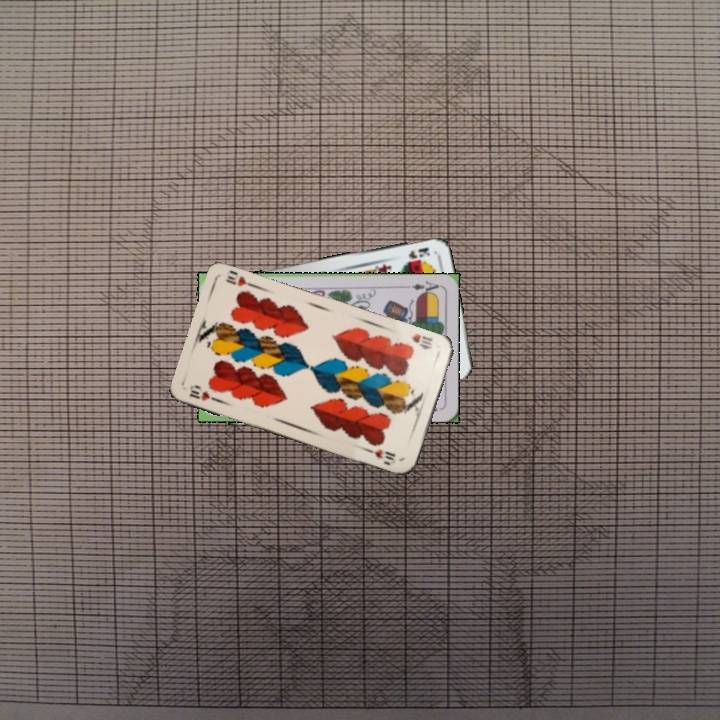EA: (402, 277, 442, 296)
H10: (186, 382, 223, 405), (407, 330, 435, 353)
SK: (404, 243, 432, 261)
